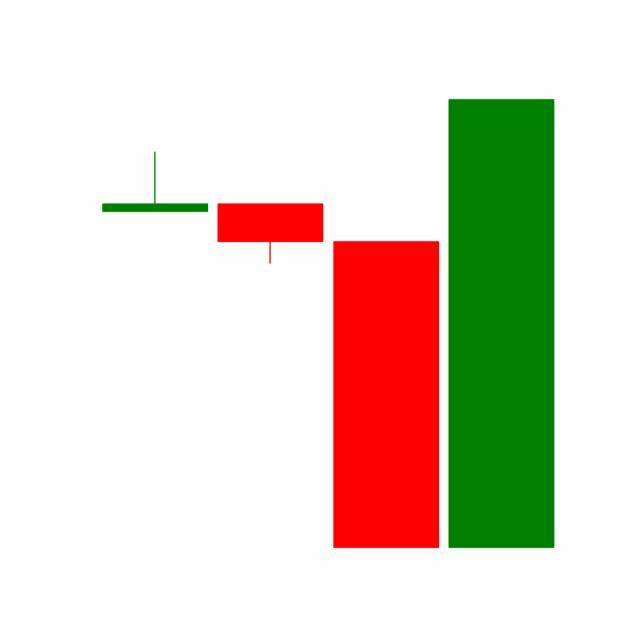Marubozu: (444, 95, 560, 553)
